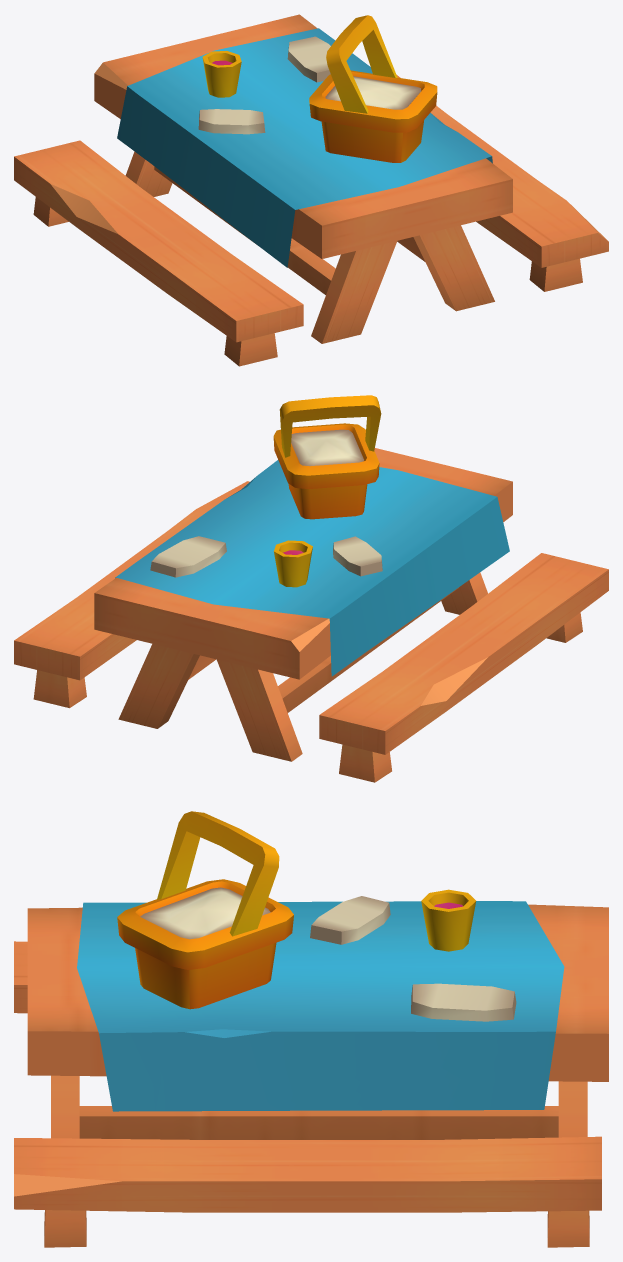
File: Table.fbx
3 views of the same model, one above another, from view 1: azimuth 30°, elevation 25°; view 2: azimuth 150°, elevation 25°; view 3: azimuth 270°, elevation 25° (orthographic). The views are drawn at different scales.
Parts seen in each view (by area): view 1: Table; view 2: Table; view 3: Table.
Part boxes in pixels (x1=…): Table: x1=14, y1=14, x2=608, y2=366; Table: x1=14, y1=395, x2=608, y2=782; Table: x1=14, y1=811, x2=608, y2=1247.
Size of the model in its own units: 232 by 143 by 243.
